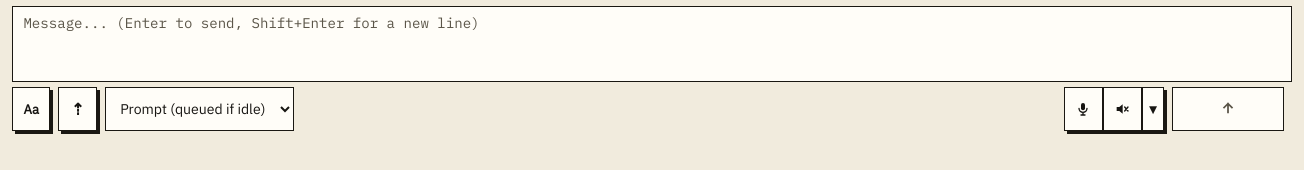
Test: the mic button › a dropped connection keeps what was heard, says so, and never sends
The width and height of the screenshot is (1304, 170).
Press the mouse on the button named "Voice input" at coordinates (1083, 109), box [1064,87,1103,131]
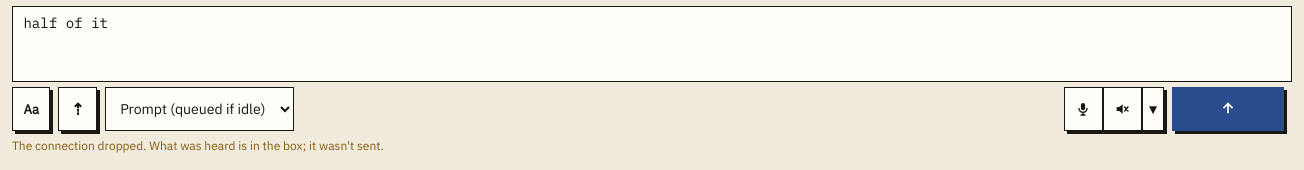
Expected: the text box named "Message" holds "half of it", [12,6,1292,82]
Expected: the message "The connection dropped. What was heard is in the box; it wasn't sent." is shown, [12,138,384,153]
